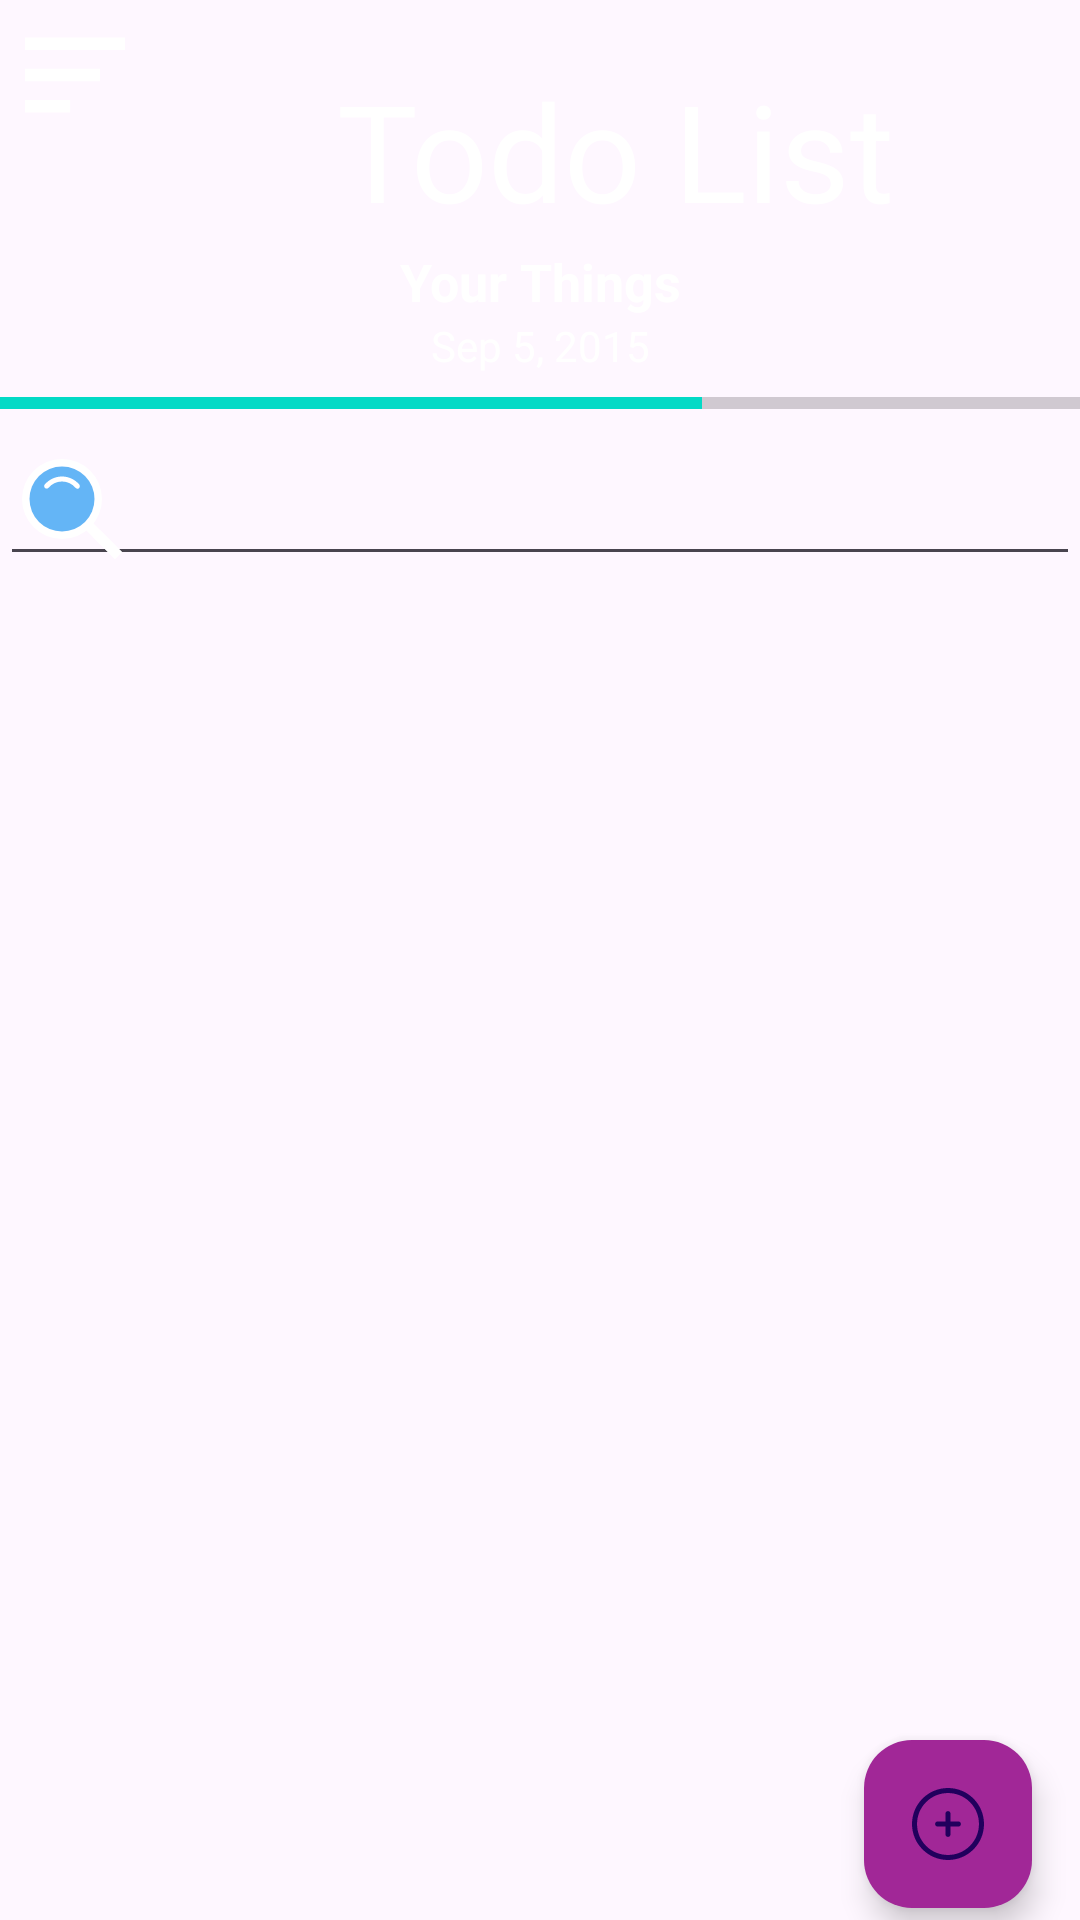

Icon bounding boxes for this 1080px x 1920px phone screenshot, format (x1,y1,x2,y2):
add: (864,1740,1032,1908)
